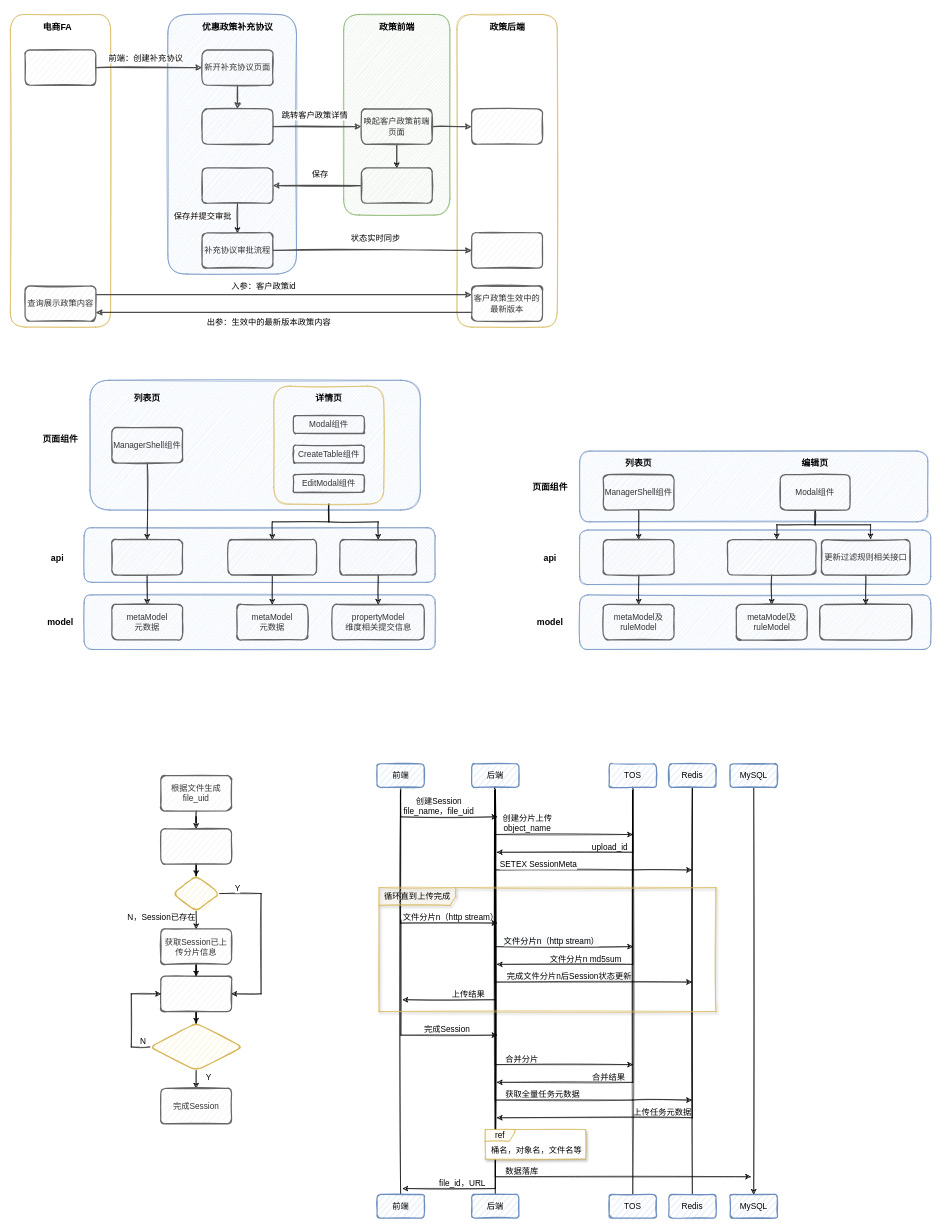
This 941x1229 diagram has some shape labels left out. Each missing label, with the centre of its shape:
"updateRuleModel 新规则 提交信息" belongs at pixel 865 622.
"上传一个分片" belongs at pixel 196 993.
"元数据及过滤规则相关接口" belongs at pixel 638 557.
"创建Session" belongs at pixel 196 846.
"填写政策优惠信息" belongs at pixel 396 185.
"客户政策新状态" belongs at pixel 507 250.
"展示优惠信息" belongs at pixel 237 185.
"成功？" belongs at pixel 196 893.
"所有分片上传完成？" belongs at pixel 196 1046.
"新增/编辑/删除维度相关接口" belongs at pixel 378 557.
"特定业务线元数据及过滤规则相关接口" belongs at pixel 771 557.
"特定业务线元数据接口" belongs at pixel 272 557.
"生成客户政策新版本数据" belongs at pixel 507 126.
"编辑客户政策内容" belongs at pixel 237 126.
"配置元数据接口" belongs at pixel 147 557.
"销售创建补充协议" belongs at pixel 60 67.
